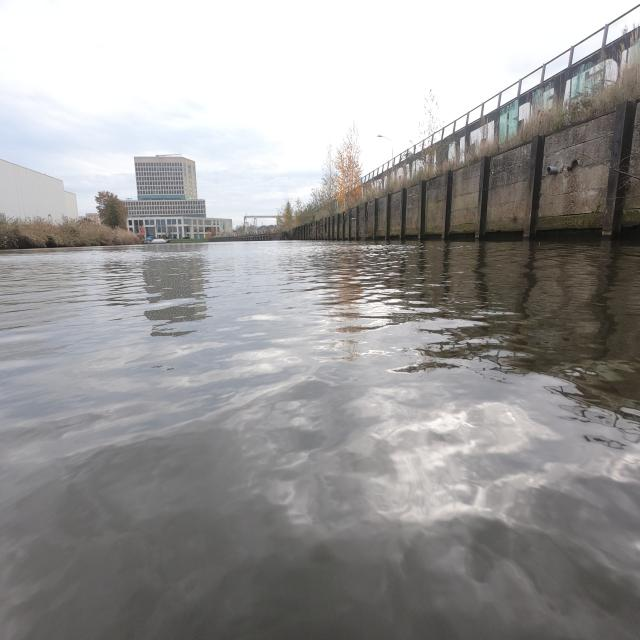reed: (8, 216, 134, 250)
sky: (12, 4, 628, 220)
wall: (272, 96, 636, 238)
water: (0, 241, 640, 640)
